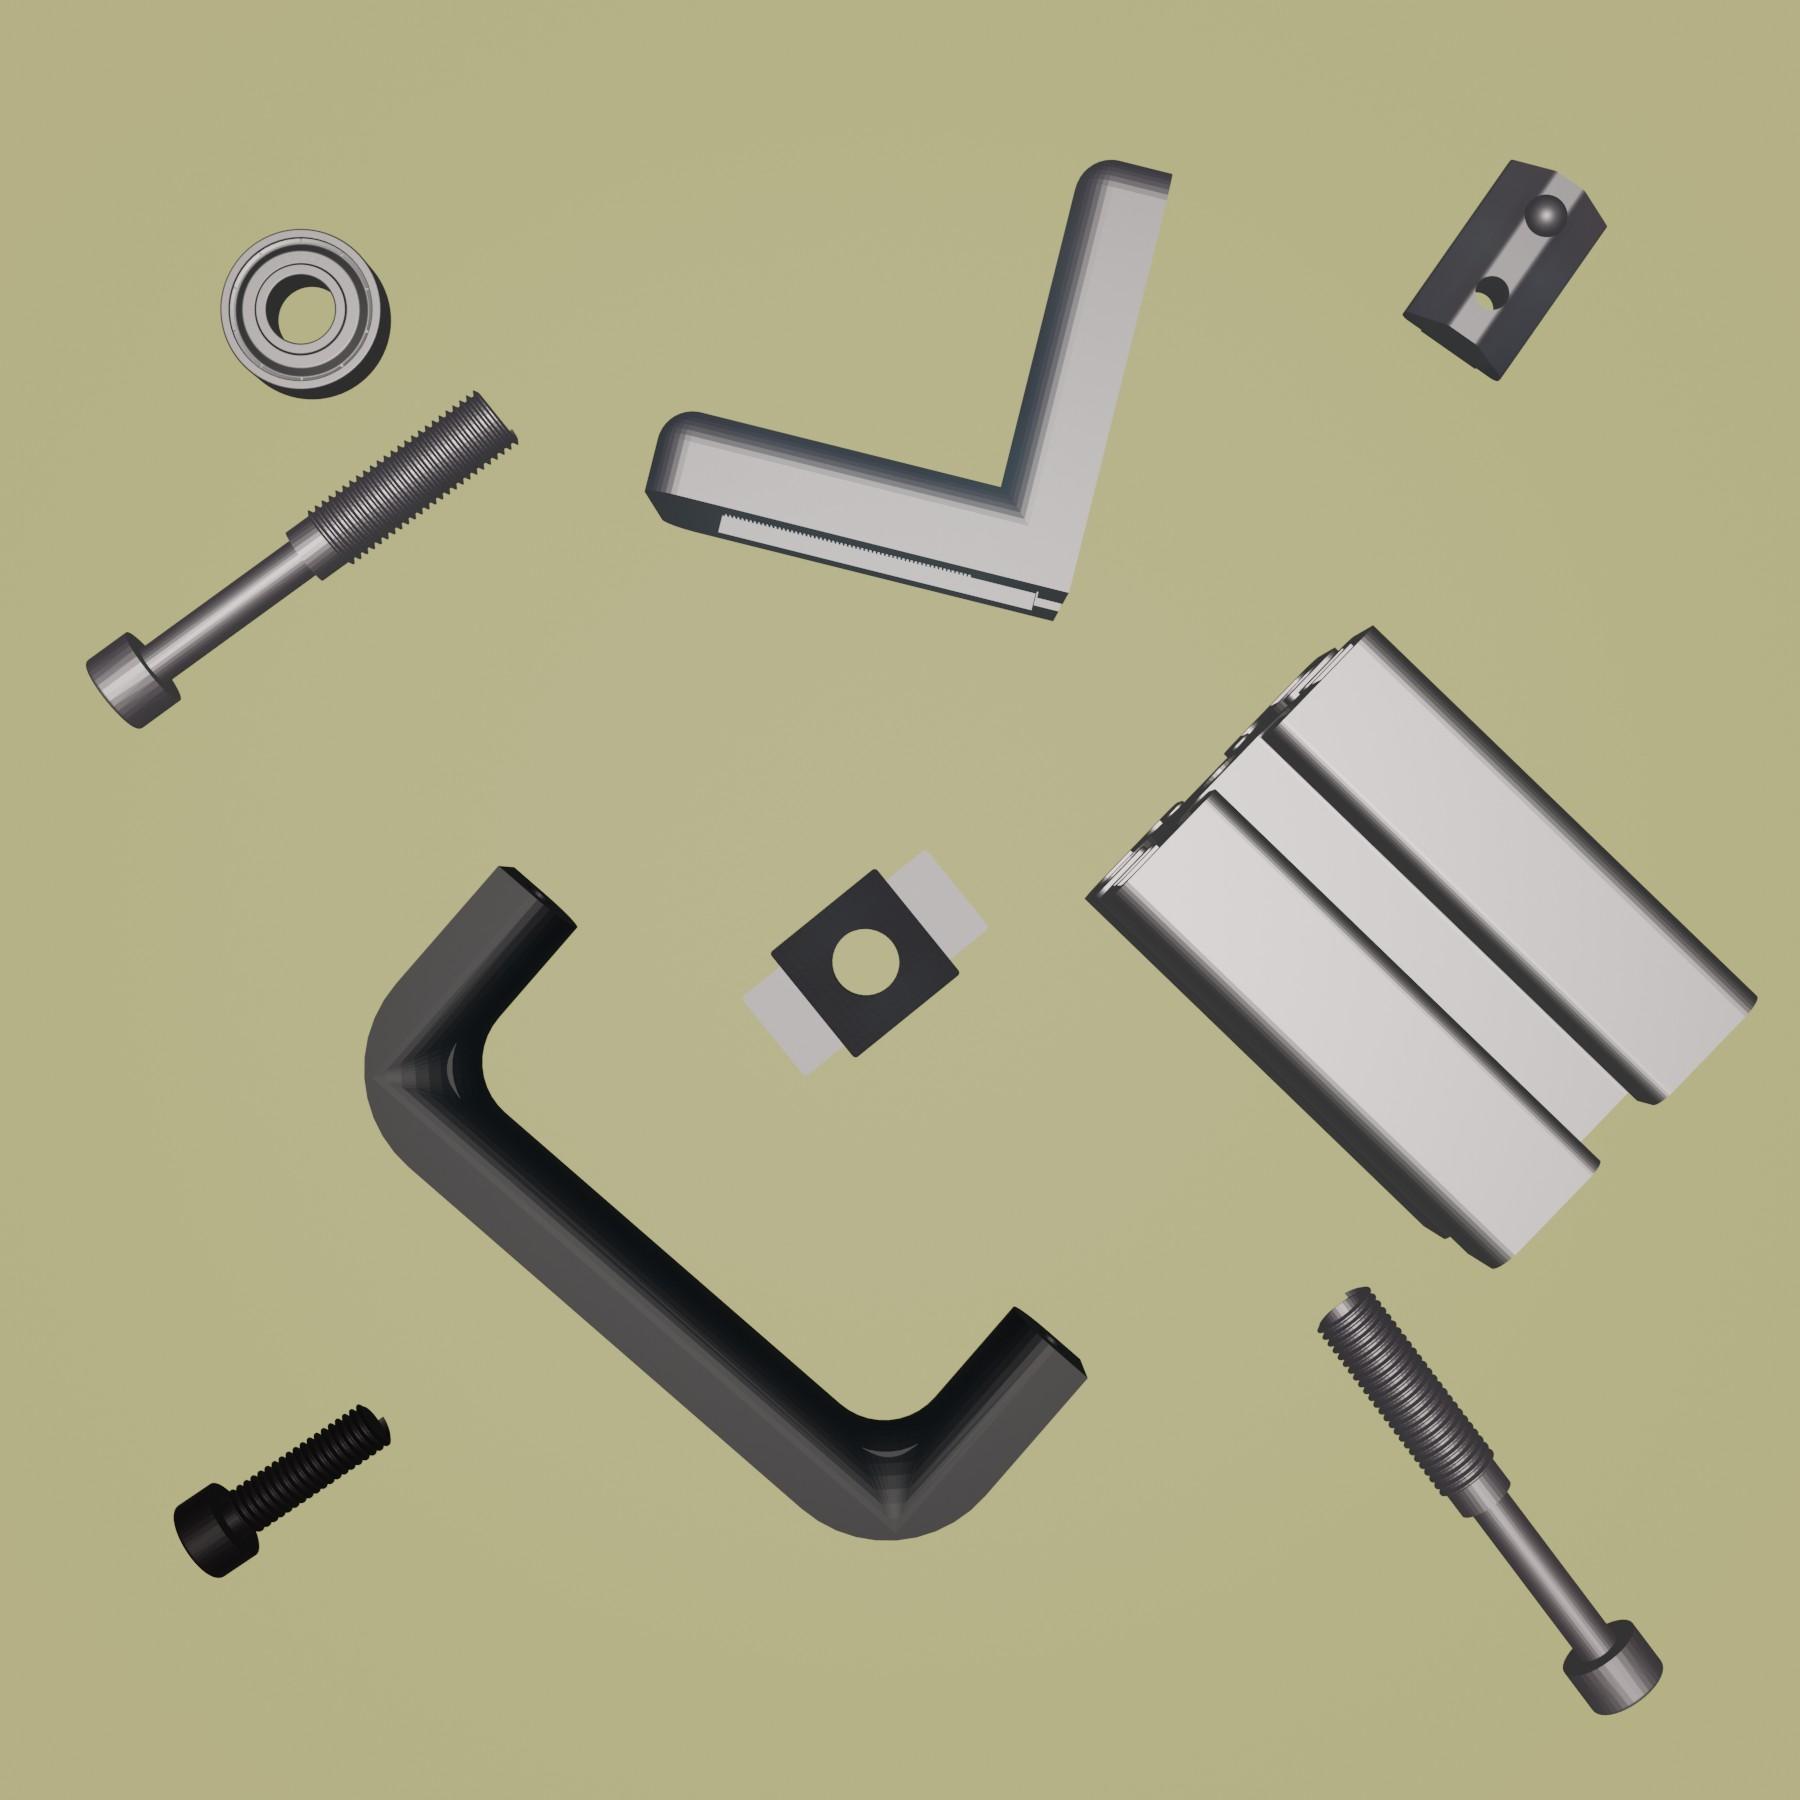Aluminium Extension: (1081, 625, 1759, 1273)
Ball Bearing: (218, 224, 392, 401)
Multiwinkel: (645, 158, 1174, 625)
Pull Handle: (361, 860, 1090, 1541)
Shoulder Socket Head Cap Screw: (1314, 1284, 1663, 1718), (82, 387, 519, 730)
Socket Head Cap Screw: (171, 1401, 392, 1581)
T Nut Square: (738, 847, 989, 1081)
T Spring Nut: (1398, 155, 1609, 384)
